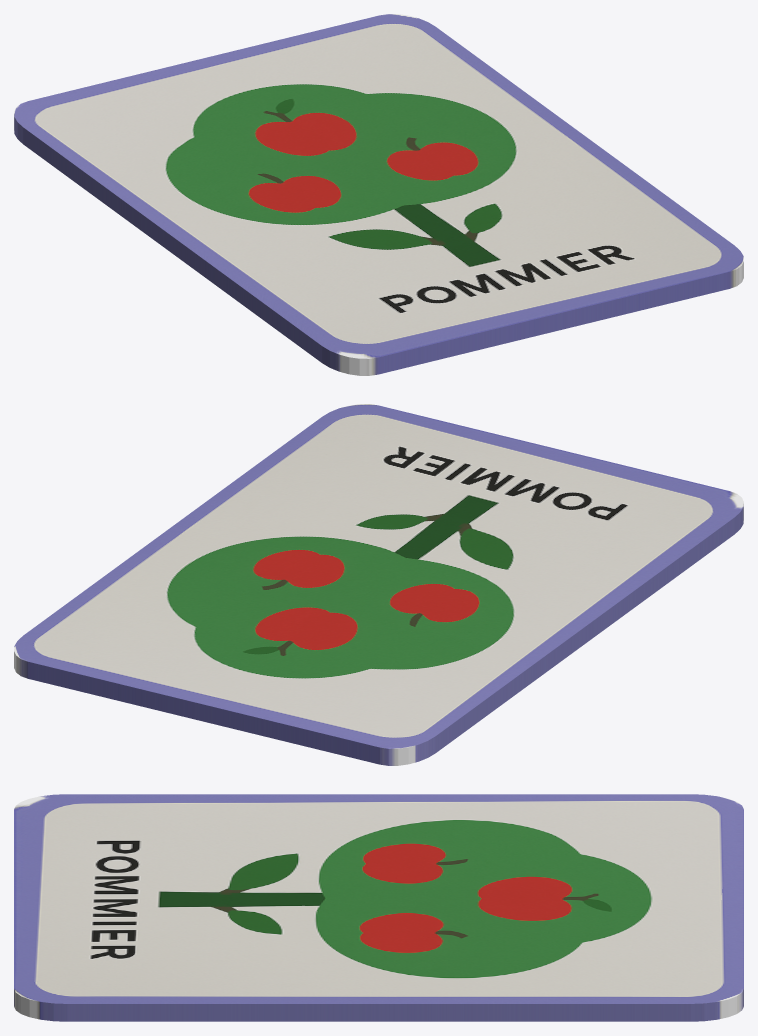
The model's file is carte1.glb.
3 views of the same model, one above another, from view 1: azimuth 30°, elevation 25°; view 2: azimuth 150°, elevation 25°; view 3: azimuth 270°, elevation 25° (orthographic). The views are drawn at different scales.
Parts seen in each view (by area): view 1: Plane; view 2: Plane; view 3: Plane.
Part boxes in pixels (bbox=[...]): Plane: bbox=[14, 14, 743, 375]; Plane: bbox=[14, 404, 743, 765]; Plane: bbox=[14, 794, 743, 1021].
Size of the model in its own units: 1.36 by 0.0539 by 2.
2 materials, 2 textured.
